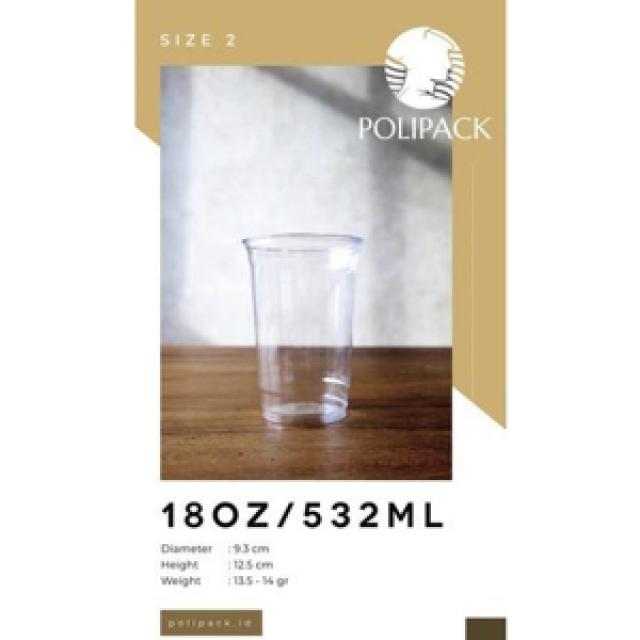plastic cup: (239, 226, 373, 442)
